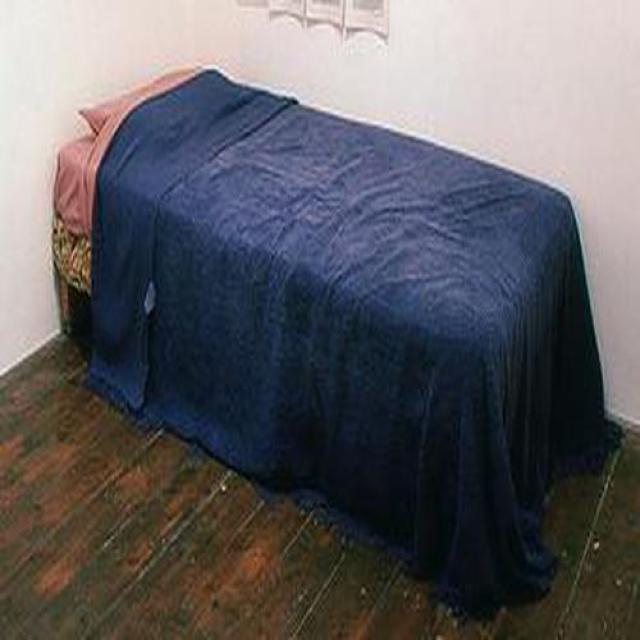bed: (52, 68, 617, 613)
